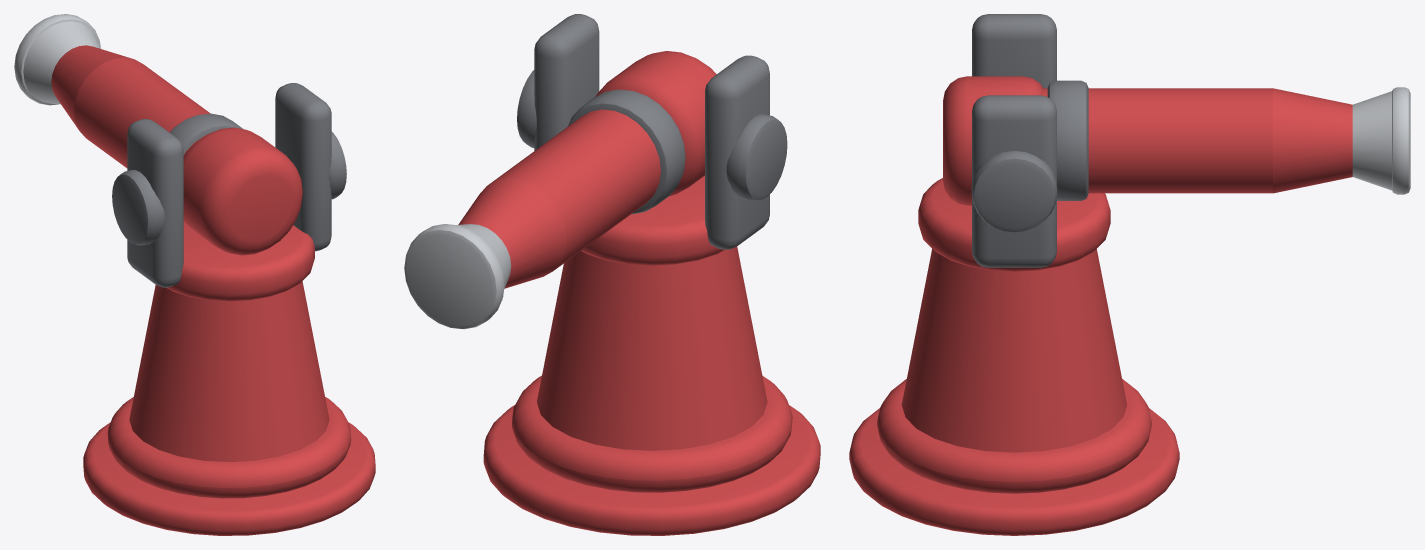
3 renders of one model, left to right at view 1: azimuth 30°, elevation 25°; view 2: azimuth 150°, elevation 25°; view 3: azimuth 270°, elevation 25°, orthographic. The views are drawn at different scales.
Parts seen in each view (by area): view 1: 水炮; view 2: 水炮; view 3: 水炮.
Boxes of the visible parts, left/top/right/bottom form: 水炮: left=14, top=14, right=375, bottom=535; 水炮: left=404, top=14, right=820, bottom=535; 水炮: left=849, top=14, right=1410, bottom=535.
Size of the model in its own units: 0.6 by 0.8275 by 1.02.
